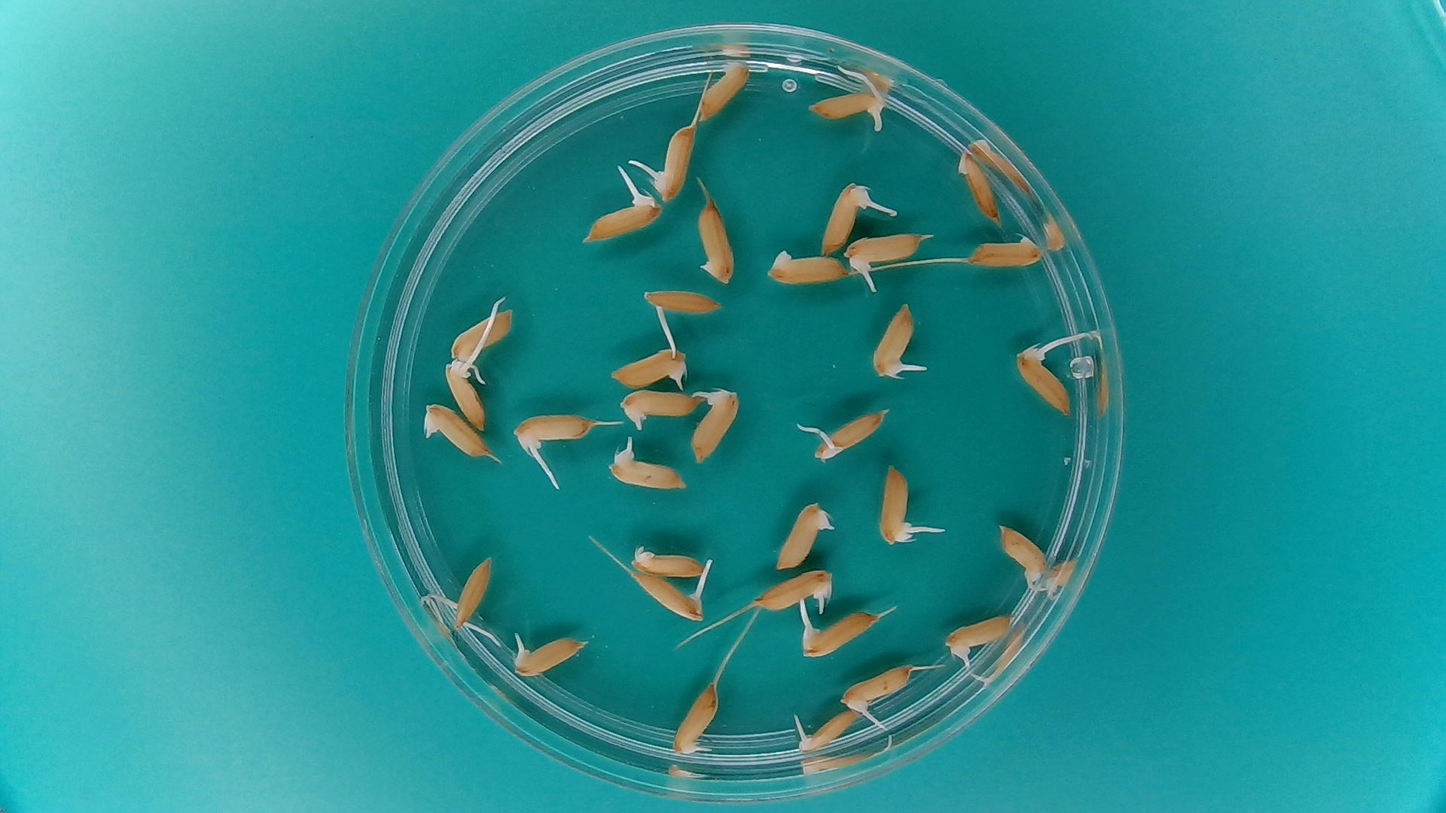no: (694, 192, 738, 288), (954, 148, 1004, 227), (764, 245, 851, 289), (995, 521, 1051, 589), (694, 57, 753, 120), (627, 542, 713, 585), (966, 229, 1045, 269), (447, 311, 517, 354)
yes: (605, 437, 688, 492), (773, 498, 834, 572), (798, 606, 883, 659), (689, 384, 743, 467), (627, 567, 707, 623), (419, 401, 493, 460), (808, 410, 888, 463), (606, 339, 689, 390), (1011, 349, 1072, 418), (752, 566, 837, 614), (819, 179, 873, 254), (869, 303, 920, 382), (585, 193, 668, 241), (839, 664, 915, 715), (843, 228, 929, 273), (941, 611, 1023, 657), (509, 410, 598, 452), (672, 678, 719, 757), (617, 387, 703, 430), (650, 123, 697, 200), (506, 633, 584, 678), (443, 359, 491, 431), (453, 555, 496, 635), (639, 284, 725, 324), (875, 459, 913, 548), (806, 90, 891, 129), (796, 707, 861, 753)
